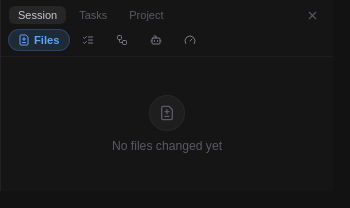
Test: InspectorRail — Plan tab › shows an empty state when there is no plan
Click the button named "Plan".
click(88, 40)  # box 72,29 -> 104,51
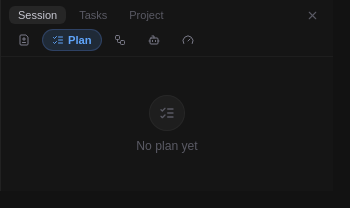
Now the text "No plan yet" is shown, box 136,95 -> 198,153
